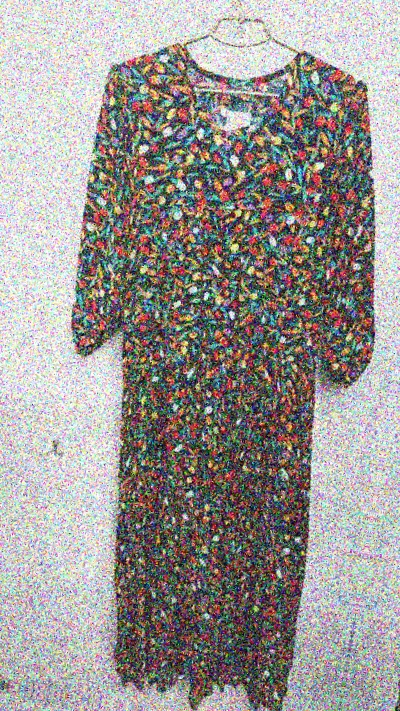Dress: (0, 0, 400, 707), (346, 50, 400, 711)
